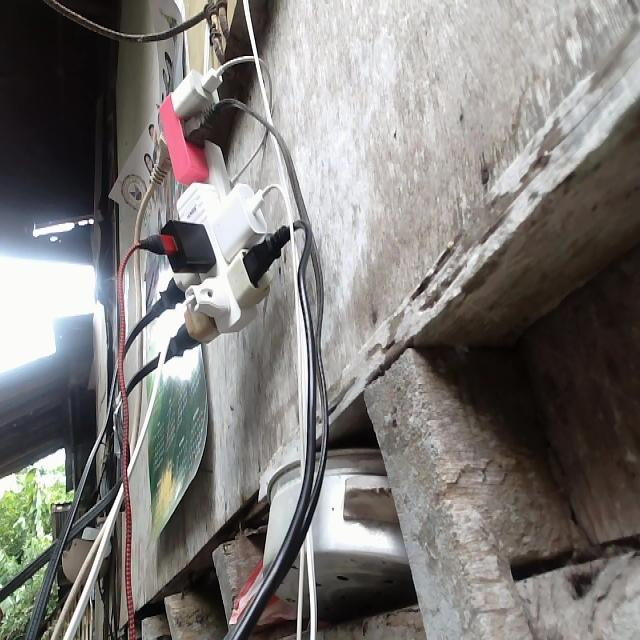-: (139, 63, 285, 348)
